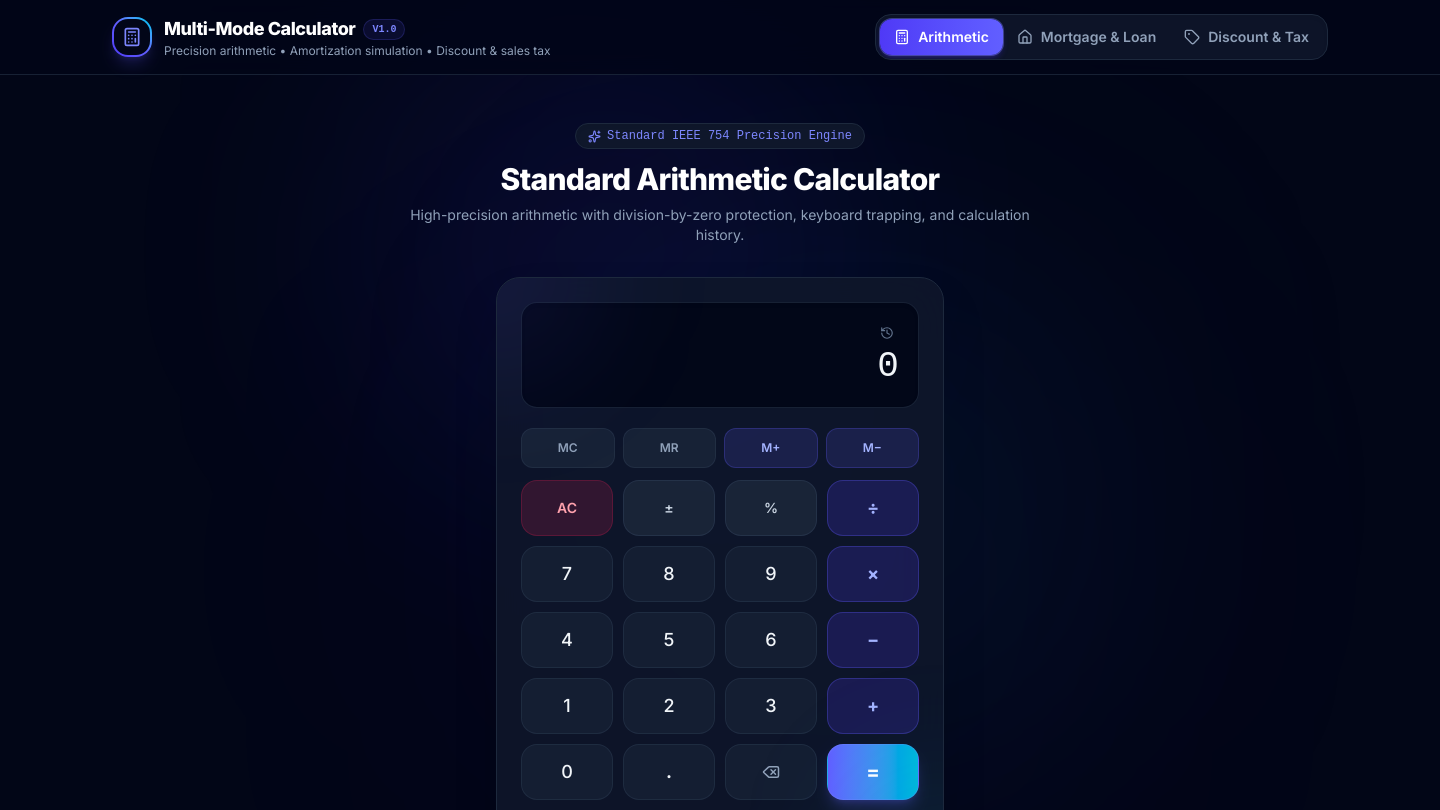
OmniCalc Acceptance Test Suite (Stories S-1 to S-7) › Story S-7: Cross-Cutting Navigation & State Persistence › preserves arithmetic calculation when switching to mortgage and back
Note: In Arithmetic tab, enter 850
Press 8
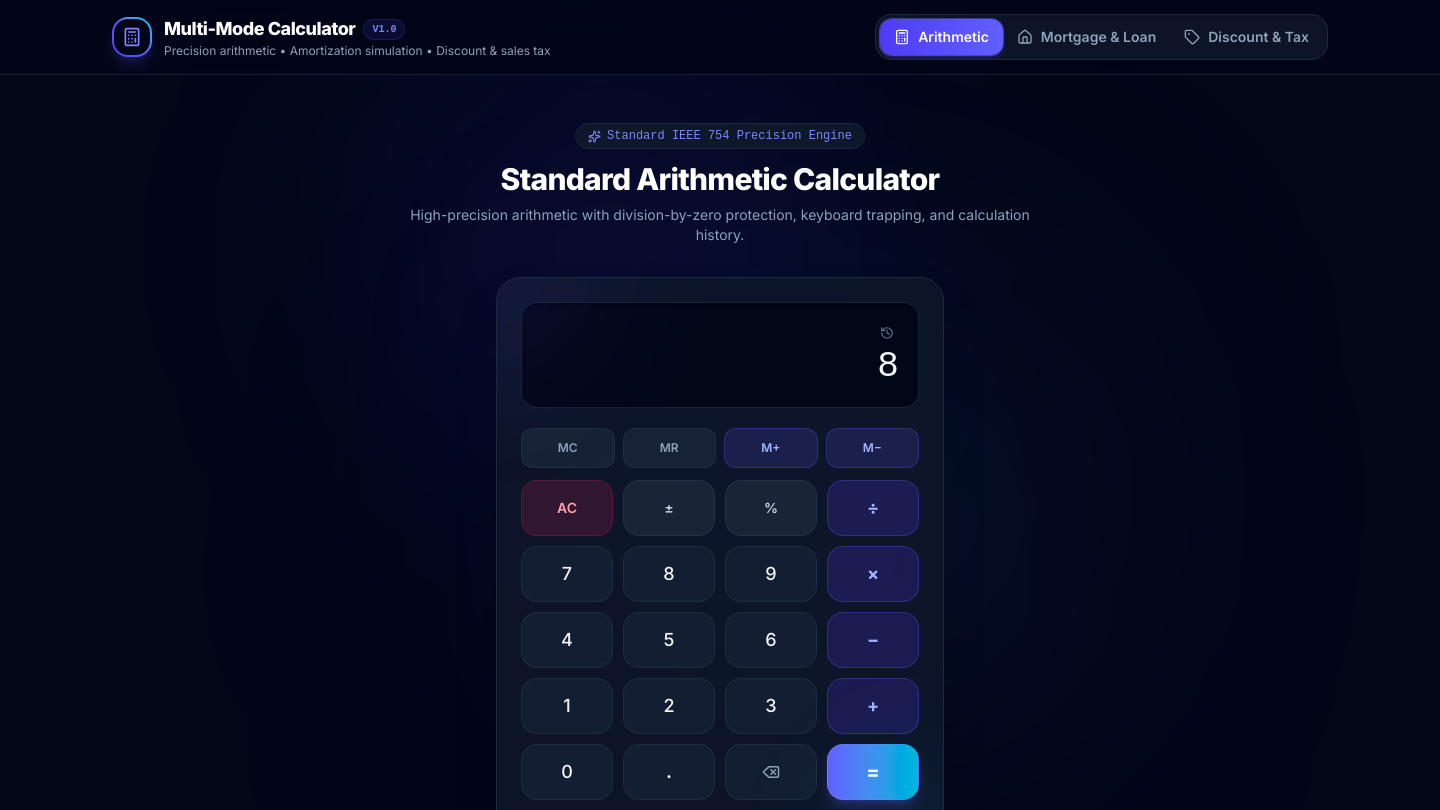
Press 5
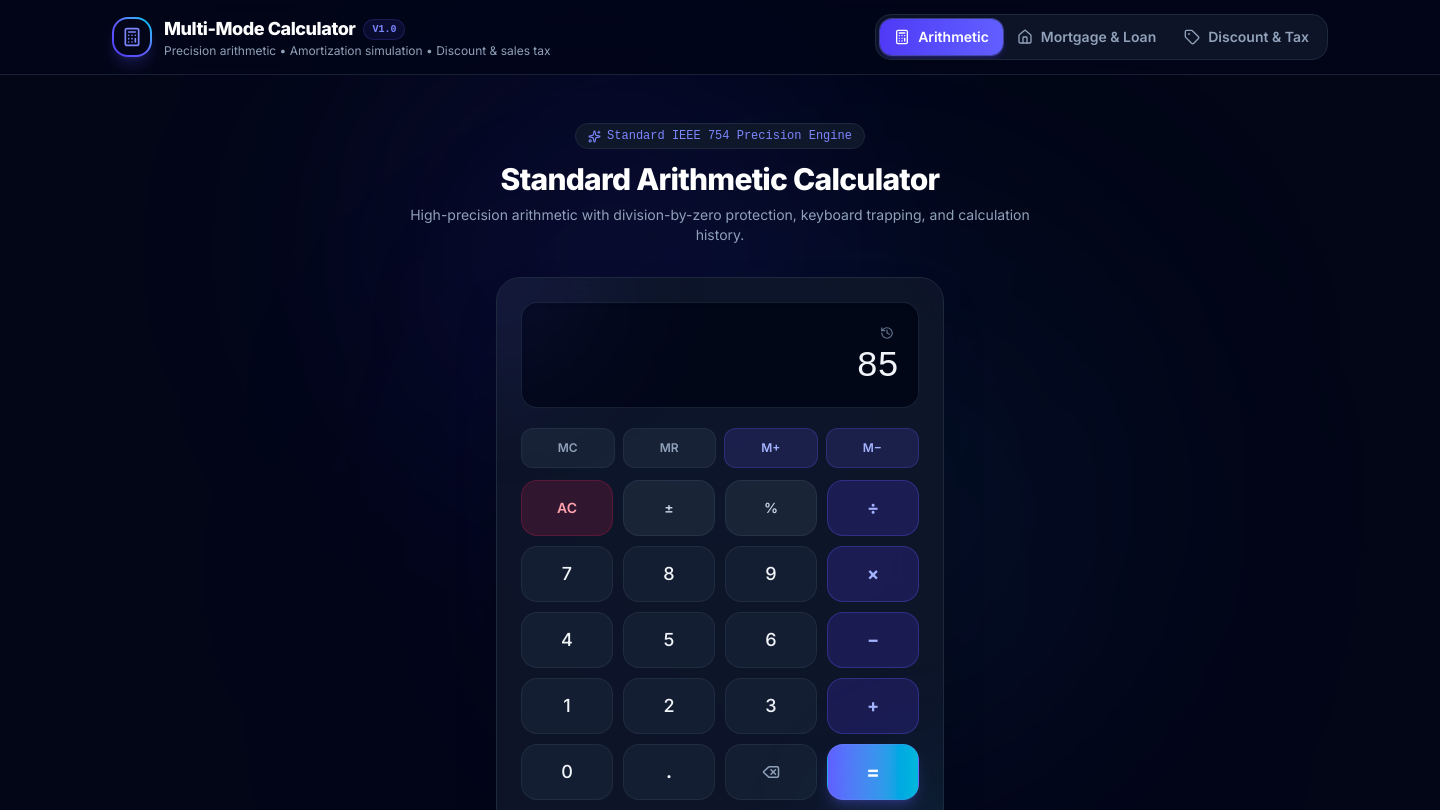
Press 0
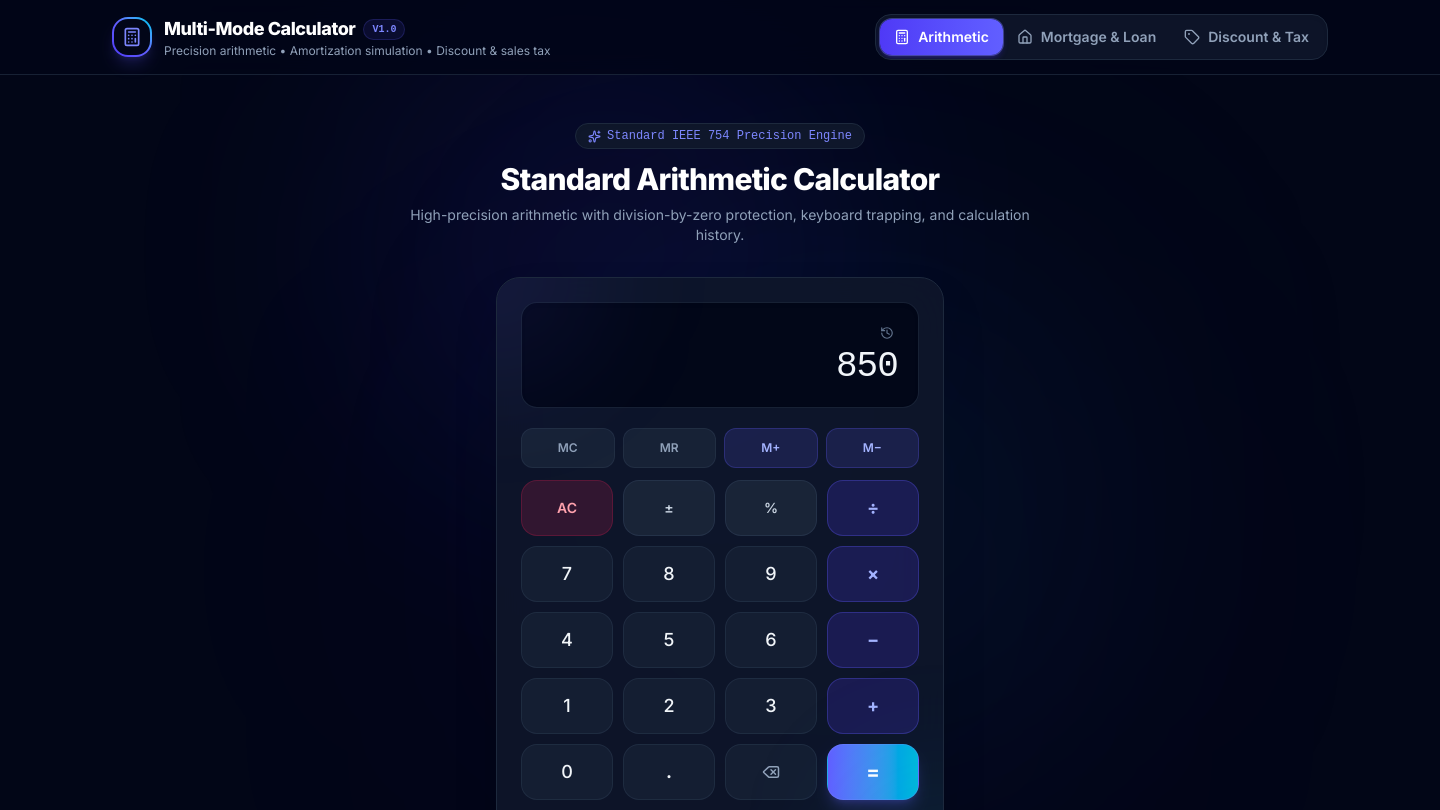
Now the text with test id "calculator-display" reads "850", box [836,347,898,387]
Note: Switch to Mortgage tab
Click the button "Mortgage & Loan": click(1086, 37) [1003,19,1170,55]
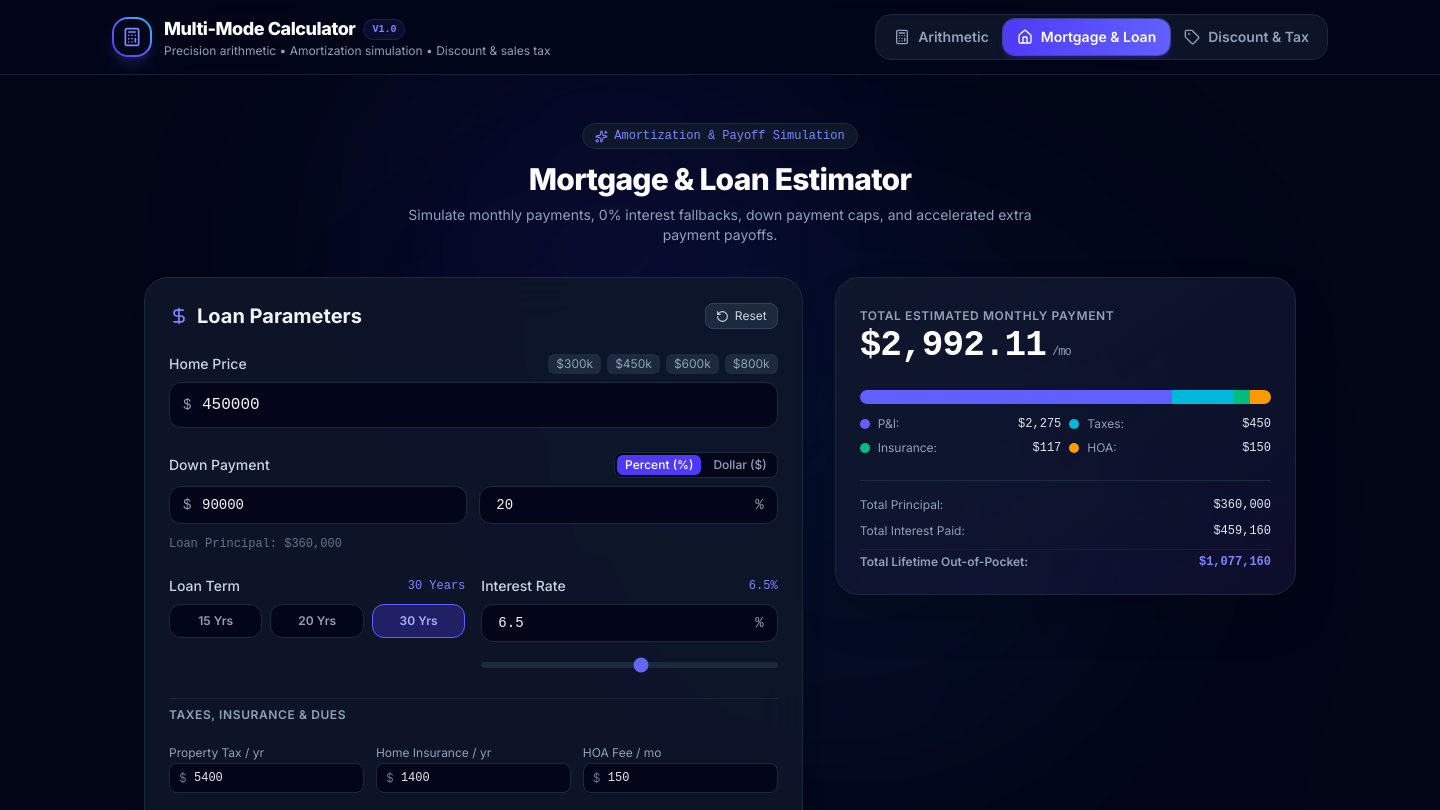
Note: Return to Arithmetic tab
Click the button "Arithmetic": click(941, 37) [880,19,1003,55]
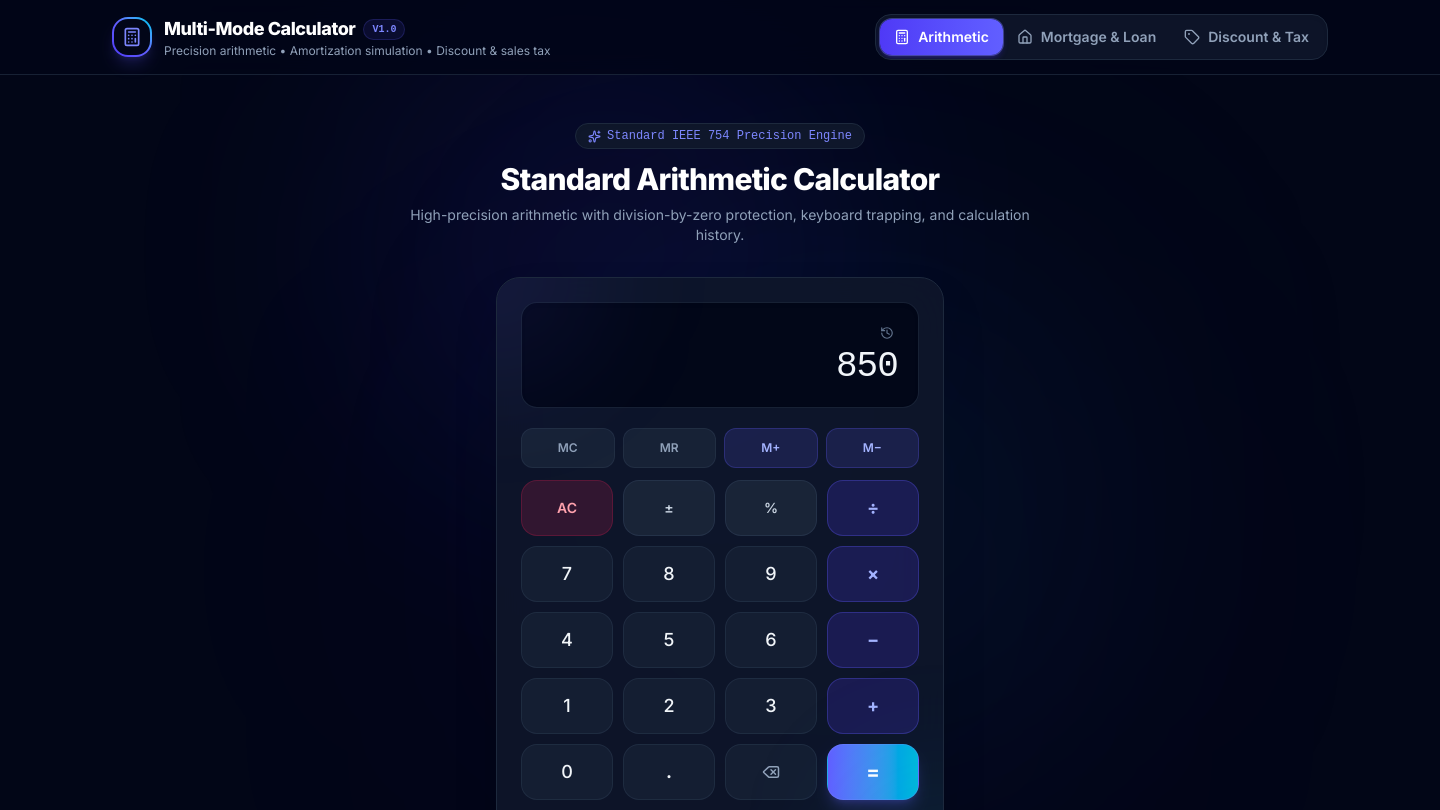
Now the text with test id "calculator-display" reads "850", box [836,347,898,387]
